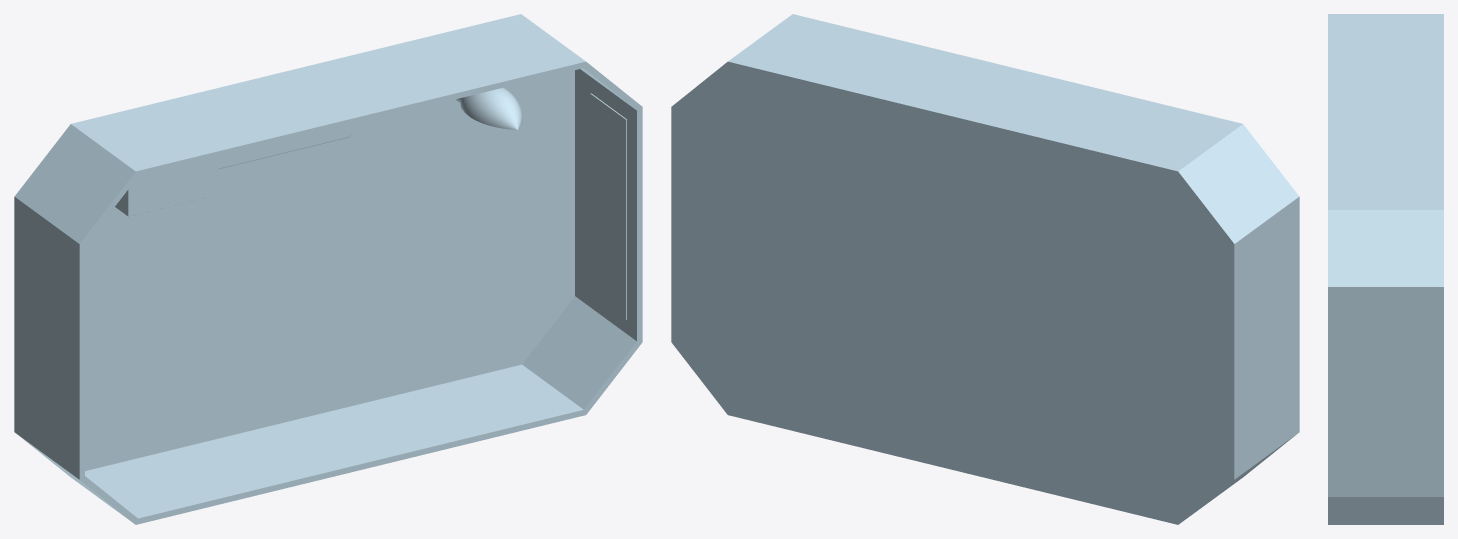
Rendered from Lerneinheit.gltf.
3 views of the same model, side by side, from view 1: azimuth 30°, elevation 25°; view 2: azimuth 150°, elevation 25°; view 3: azimuth 270°, elevation 25° (orthographic). The views are drawn at different scales.
Visible parts, largest first — view 1: Part 1; view 2: Part 1; view 3: Part 1.
Part boxes in pixels (<box>): Part 1: <box>14,14,642,524</box>; Part 1: <box>671,14,1299,524</box>; Part 1: <box>1328,14,1443,524</box>.
Bounding box in the file's own units: 0.5 × 0.3 × 0.1.
